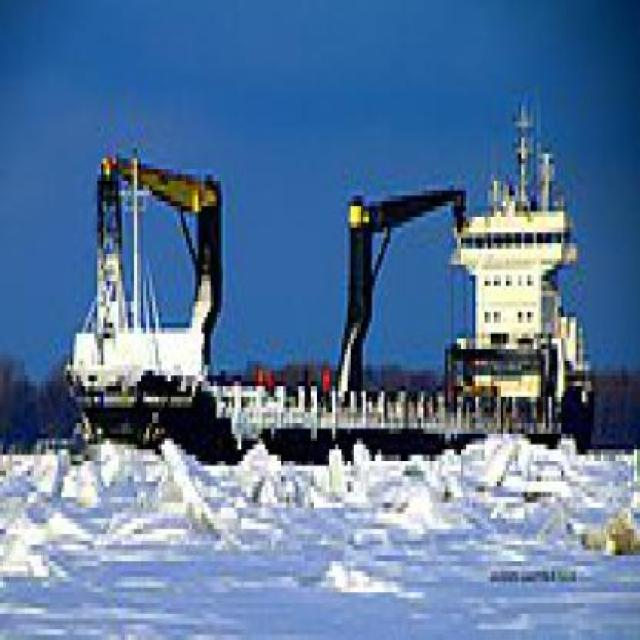container: (53, 75, 604, 482)
